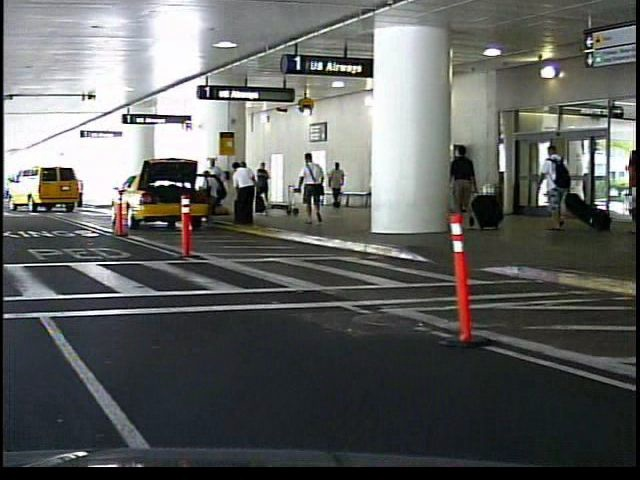person: (528, 142, 570, 236), (292, 150, 325, 226), (449, 140, 476, 230), (325, 159, 344, 211)
